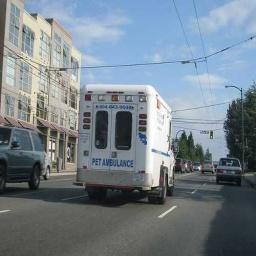Ambulance: (74, 84, 174, 203)
